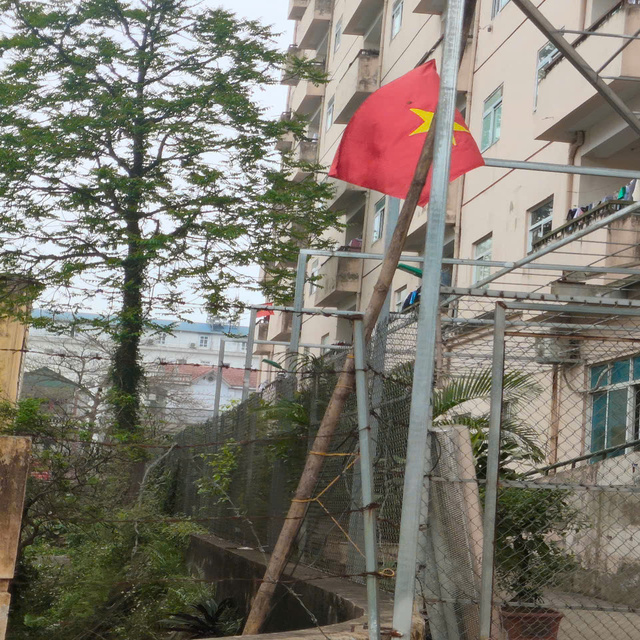laco: (336, 57, 497, 214)
